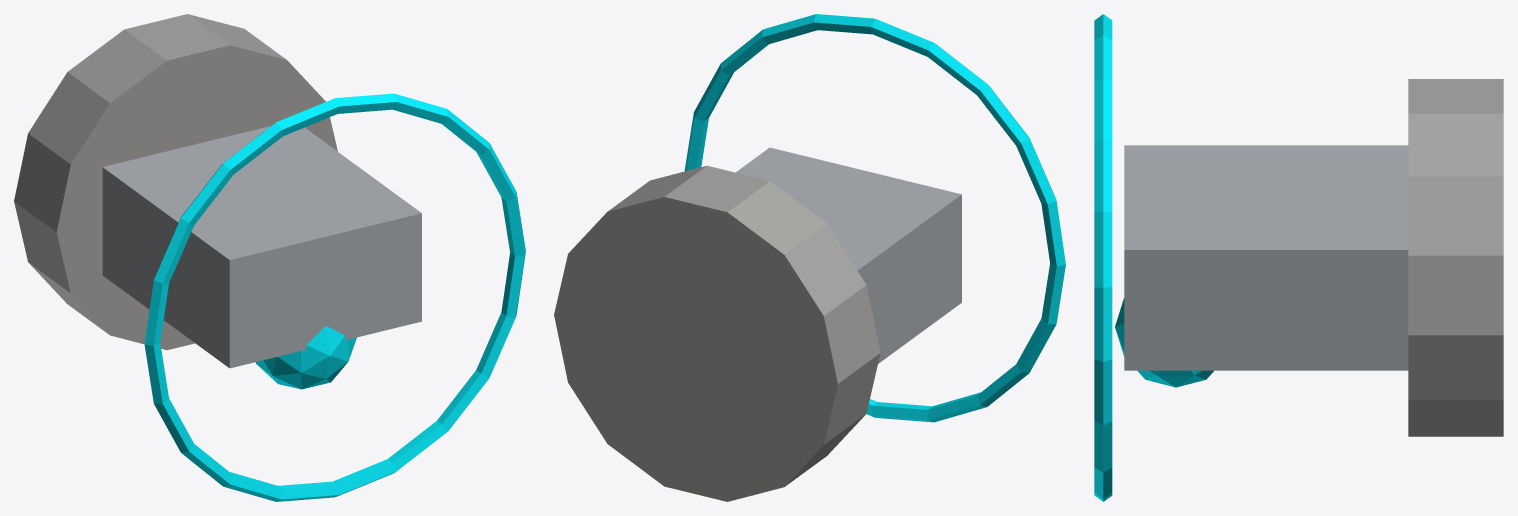
File: 04_quest_or_system_interactable.glb
3 renders of one model, left to right at view 1: azimuth 30°, elevation 25°; view 2: azimuth 150°, elevation 25°; view 3: azimuth 270°, elevation 25°, orthographic. The views are drawn at different scales.
Visible parts, largest first — view 1: control_or_relic_body, interaction_base, objective_ring, activation_core; view 2: interaction_base, control_or_relic_body, objective_ring; view 3: control_or_relic_body, interaction_base, objective_ring, activation_core.
Part boxes in pixels (box(x1,y1,x2,y2)): control_or_relic_body: box(102, 126, 421, 368); interaction_base: box(14, 14, 337, 350); objective_ring: box(144, 93, 525, 501); activation_core: box(255, 326, 356, 389); interaction_base: box(554, 165, 880, 501); control_or_relic_body: box(736, 147, 961, 363); objective_ring: box(684, 14, 1065, 422); control_or_relic_body: box(1124, 145, 1408, 370); interaction_base: box(1408, 79, 1503, 436); objective_ring: box(1094, 14, 1112, 501); activation_core: box(1115, 298, 1213, 387).
Bounding box in the file's own units: 1.29 × 1.29 × 1.07.
